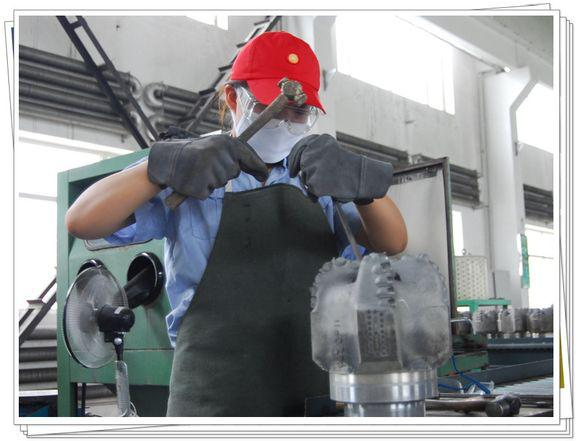OK: (238, 97, 309, 163)
